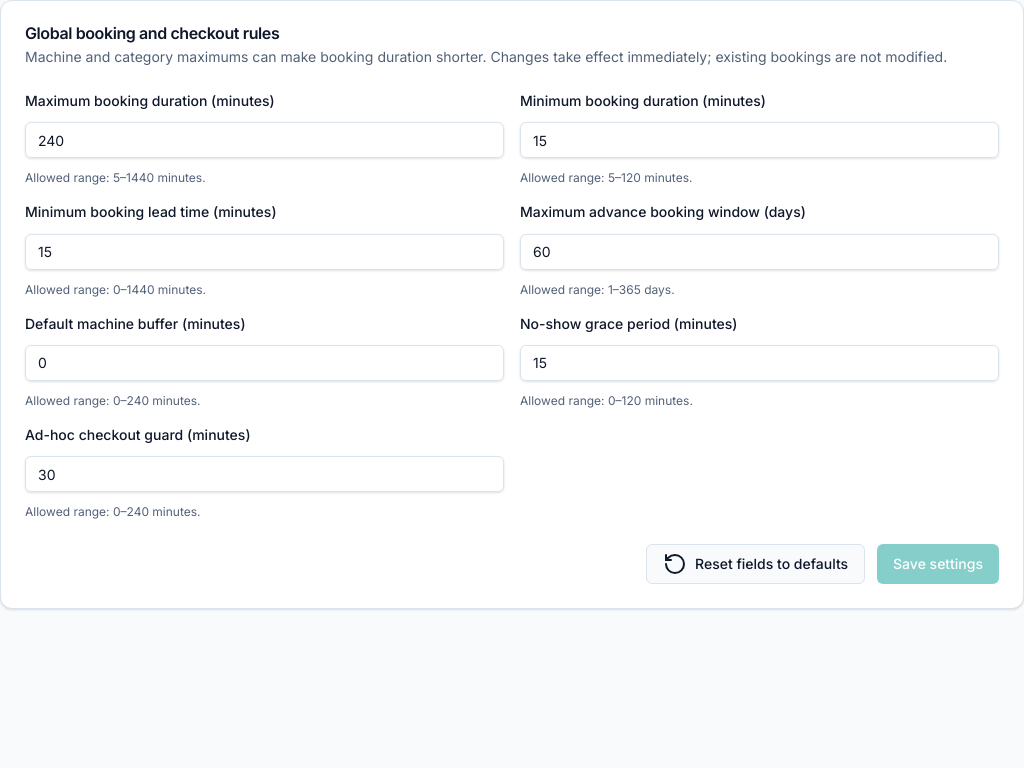
Test: BookingSettingsManagement › blocks invalid limits and shows an accessible field error
This screenshot has width=1024, height=768.
Replace the text in the number field labelled "Minimum booking duration (minutes)" with "121" at (760, 140), box [520, 122, 999, 158]
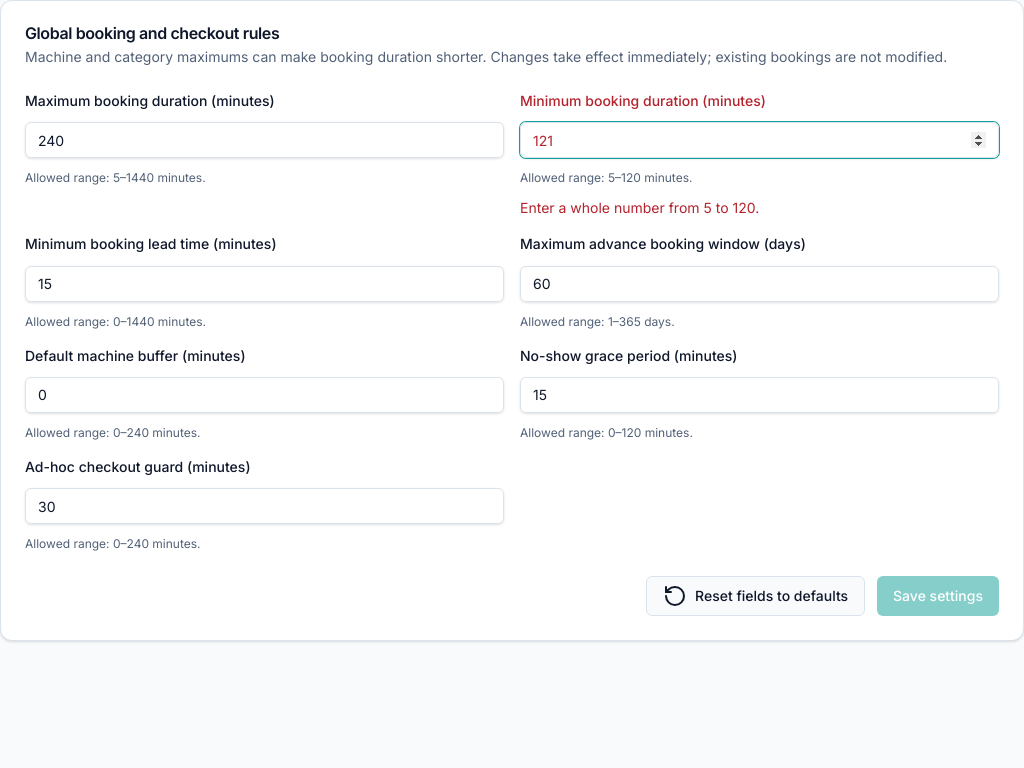
expect the button "Save settings" is disabled: met, box [877, 576, 999, 616]
expect the text "Enter a whole number from 5 to 120." is shown: met, box [520, 199, 759, 216]
